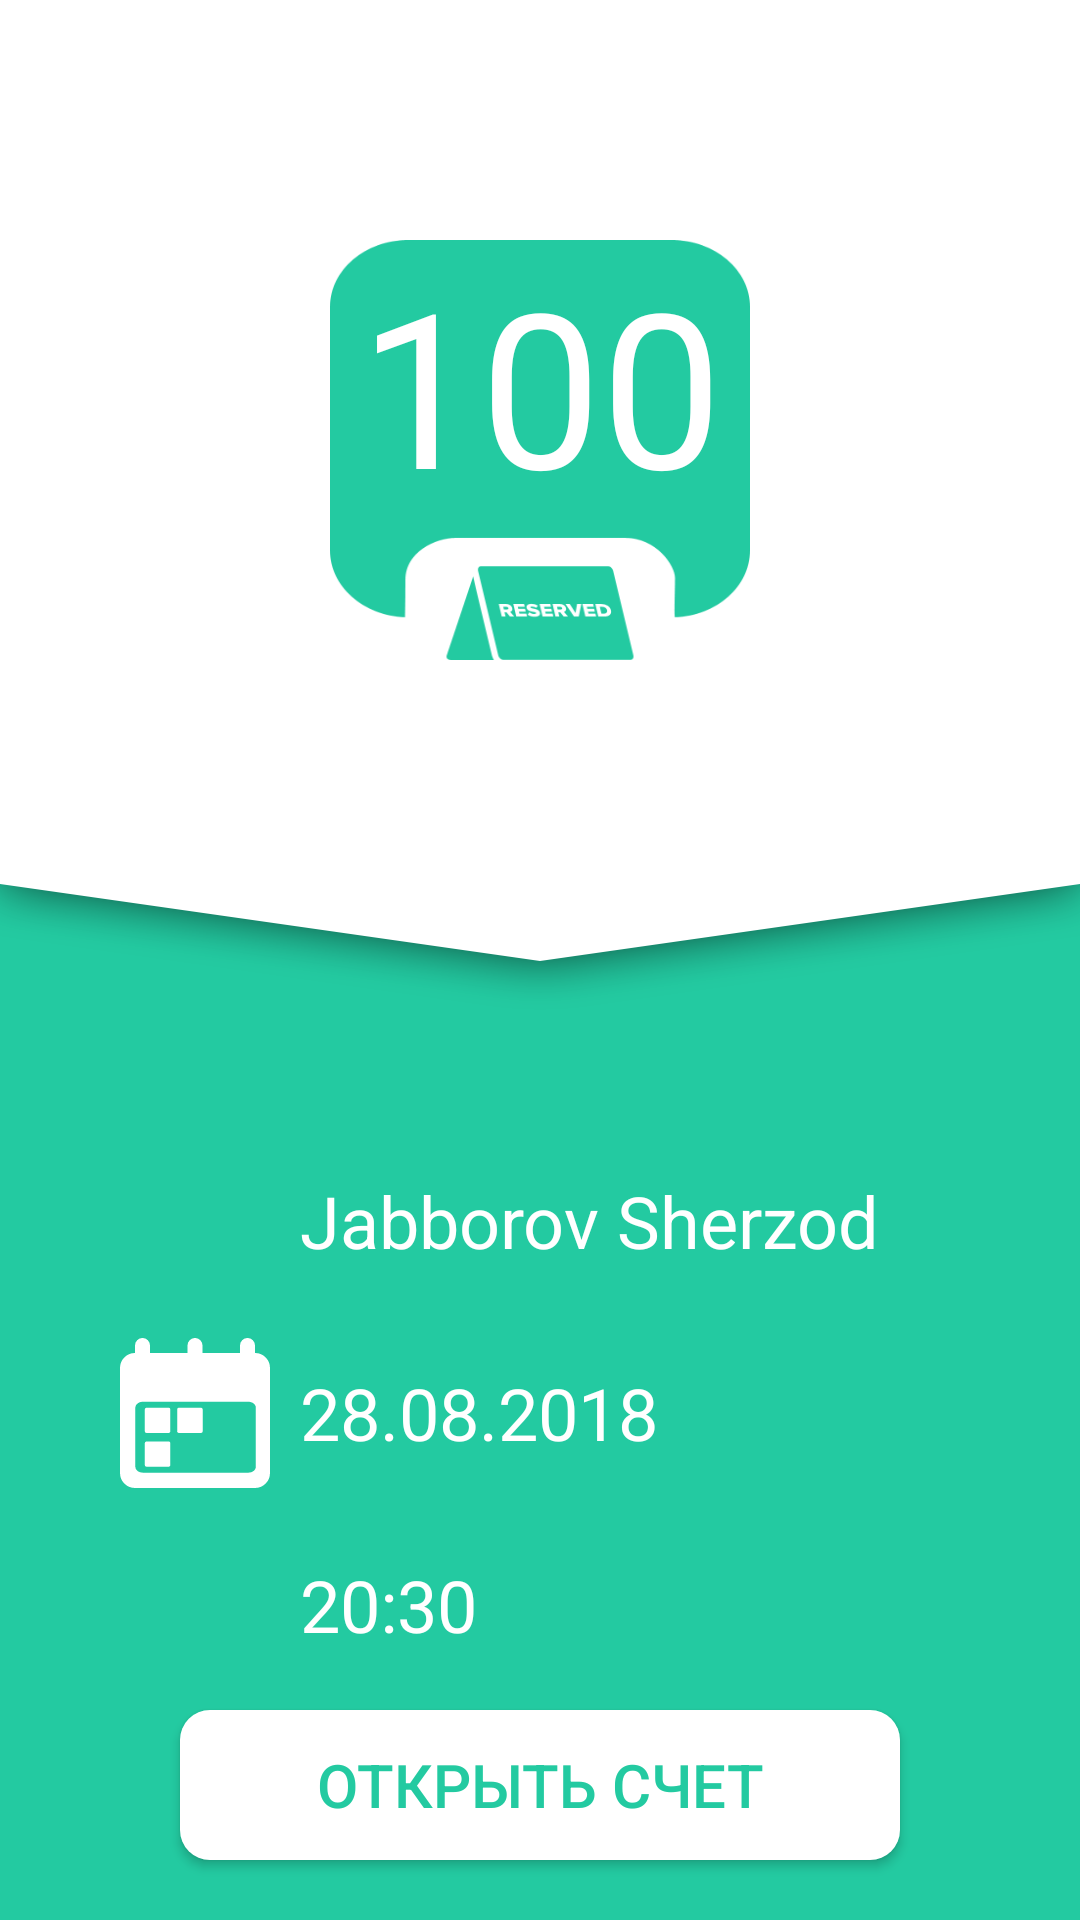

Where to tap for icons on this 1080 x 1920 app screen, as (x=x, y=y):
cal: (x=195, y=1413)
